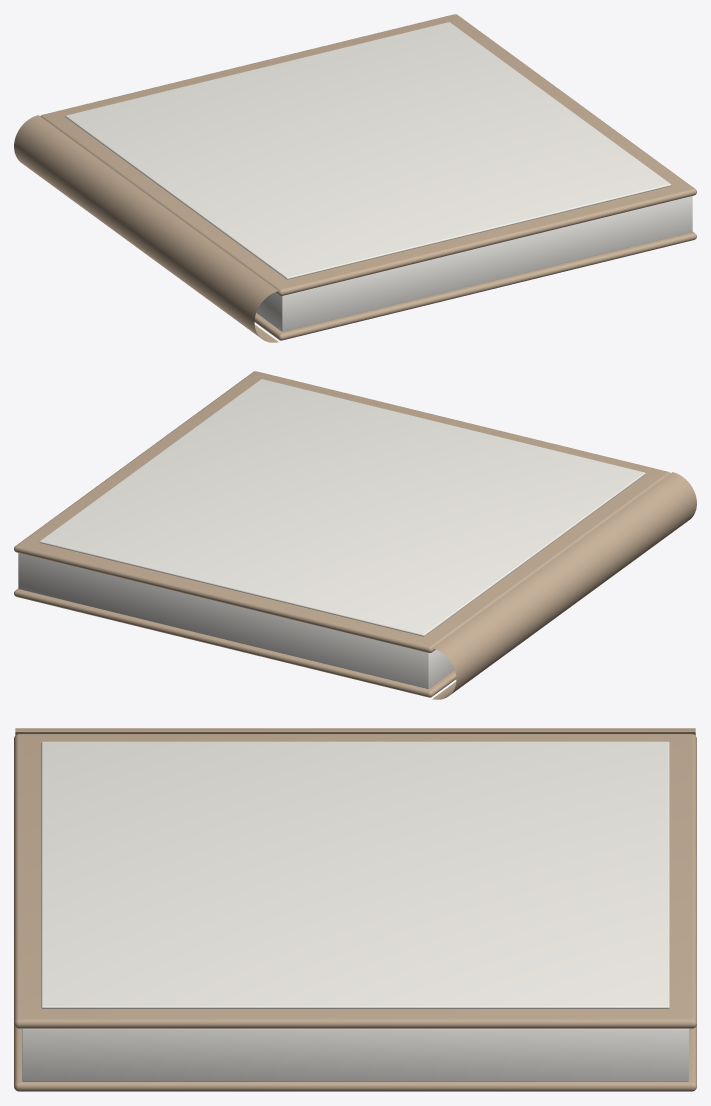
The model's file is laser--square.glb.
3 views of the same model, one above another, from view 1: azimuth 30°, elevation 25°; view 2: azimuth 150°, elevation 25°; view 3: azimuth 270°, elevation 25° (orthographic). The views are drawn at different scales.
Visible parts, largest first — view 1: Band, CoverFront, Pages, Spine, CoverBack; view 2: Band, CoverFront, Pages, Spine, CoverBack; view 3: Band, Pages, CoverFront, CoverBack, Spine.
Boxes of the visible parts, <box> form: Band: <box>65,22,671,279</box>; CoverFront: <box>40,14,696,295</box>; Pages: <box>256,196,692,331</box>; Spine: <box>14,115,278,342</box>; CoverBack: <box>254,232,696,340</box>; Band: <box>39,379,645,636</box>; CoverFront: <box>14,371,670,652</box>; Pages: <box>18,553,454,688</box>; Spine: <box>432,472,696,699</box>; CoverBack: <box>14,589,456,697</box>; Band: <box>41,741,669,1008</box>; Pages: <box>22,1028,688,1081</box>; CoverFront: <box>14,734,696,1028</box>; CoverBack: <box>14,1025,696,1091</box>; Spine: <box>15,728,695,735</box>.
Bounding box in the file's own units: 0.3179 × 0.0365 × 0.3.
